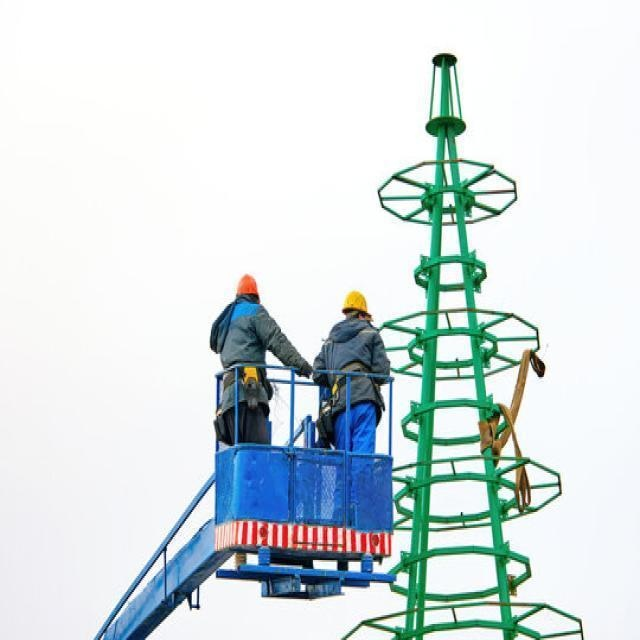Arnes_seguridad: (316, 359, 376, 439)
